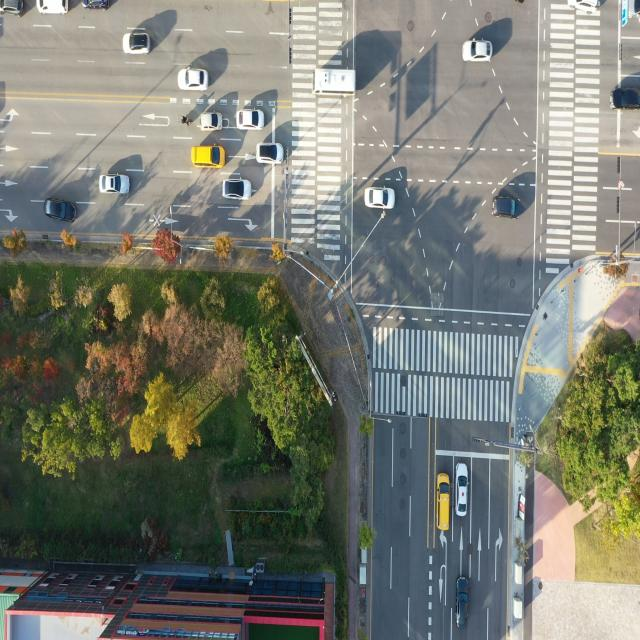car: (437, 471, 453, 532), (491, 192, 522, 221), (462, 36, 493, 64), (256, 140, 286, 167), (609, 86, 640, 112), (456, 464, 470, 521), (44, 199, 75, 224), (220, 176, 252, 200), (456, 577, 470, 631), (192, 147, 225, 169), (177, 65, 210, 87), (365, 188, 395, 212), (99, 174, 129, 197), (120, 33, 152, 52), (35, 0, 69, 15), (199, 112, 223, 132), (240, 109, 263, 129), (2, 0, 25, 17), (80, 0, 111, 12)
small_bus: (311, 69, 358, 99)
